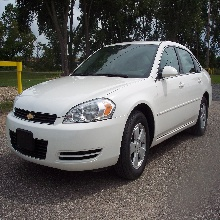no damage: (6, 41, 212, 178)
